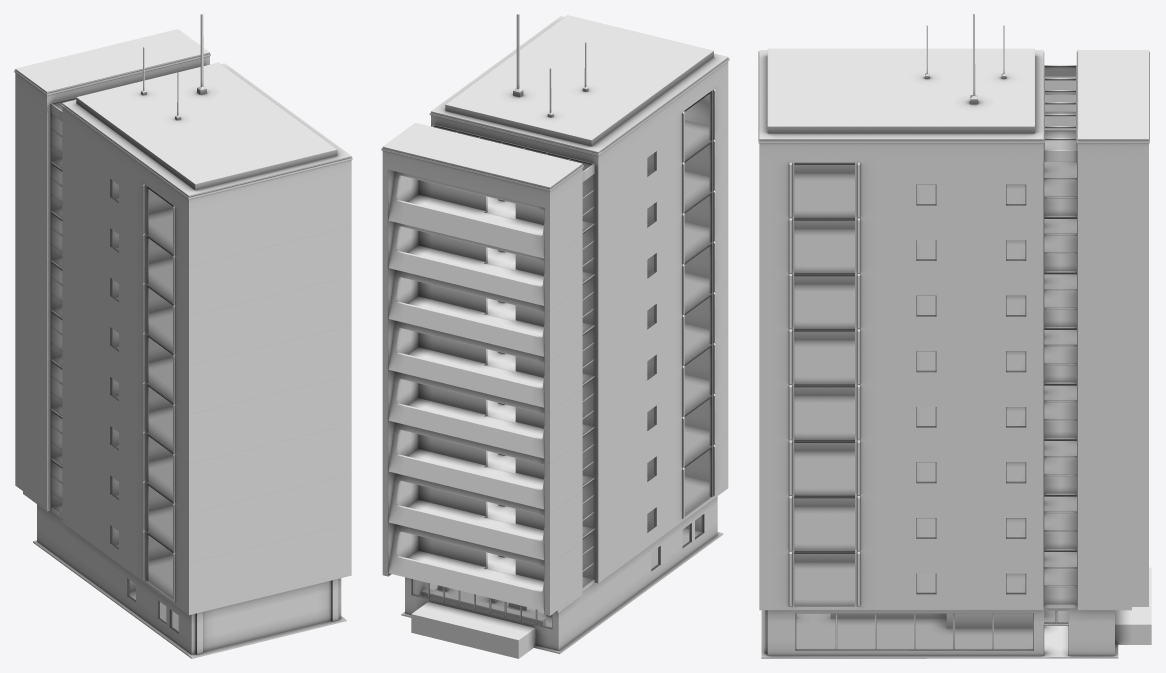
Rendered from residential_005.obj.
The picture shows the model from 3 angles, left to right: view 1: azimuth 30°, elevation 25°; view 2: azimuth 150°, elevation 25°; view 3: azimuth 270°, elevation 25°; orthographic projection. The views are drawn at different scales.
Parts seen in each view (by area): view 1: Residential_Buildings_005_Cube.006; view 2: Residential_Buildings_005_Cube.006; view 3: Residential_Buildings_005_Cube.006.
Boxes of the visible parts, x1=… form: Residential_Buildings_005_Cube.006: x1=14, y1=14, x2=352, y2=658; Residential_Buildings_005_Cube.006: x1=381, y1=14, x2=729, y2=658; Residential_Buildings_005_Cube.006: x1=758, y1=14, x2=1151, y2=658.
Size of the model in its own units: 12.59 by 39.99 by 23.1.
Materials: 2 (1 with a texture image).
